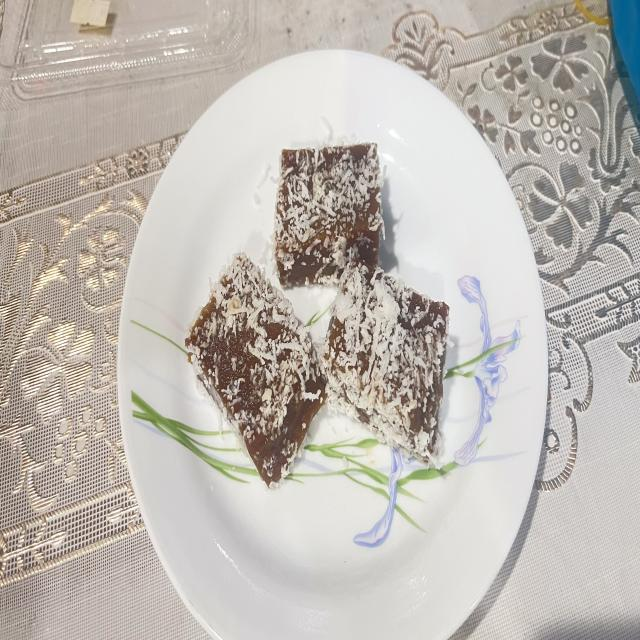kaswi: (185, 253, 325, 487), (320, 262, 449, 464), (275, 144, 384, 287)
